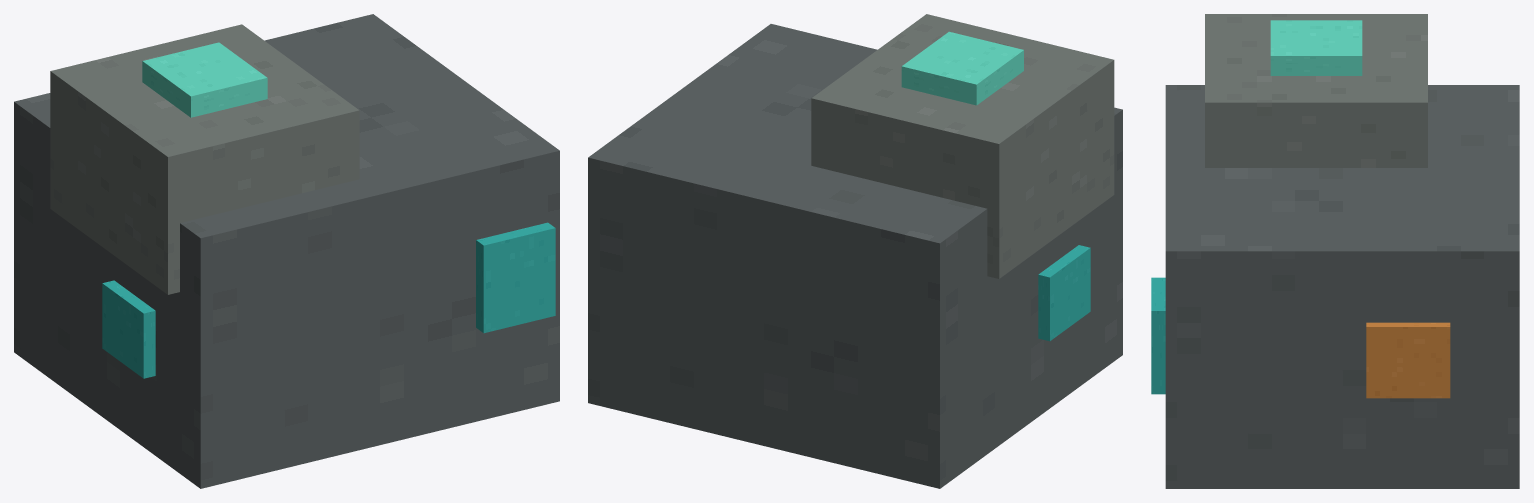
The model's file is ore.glb.
3 views of the same model, side by side, from view 1: azimuth 30°, elevation 25°; view 2: azimuth 150°, elevation 25°; view 3: azimuth 270°, elevation 25° (orthographic). The views are drawn at different scales.
Visible parts, largest first — view 1: ore; view 2: ore; view 3: ore.
Part boxes in pixels (box(x1,y1,x2,y2)): ore: box(14, 14, 559, 488); ore: box(588, 14, 1122, 488); ore: box(1151, 14, 1519, 488).
Bounding box in the file's own units: 1.59 × 1.36 × 1.41.
1 material, 1 textured.
